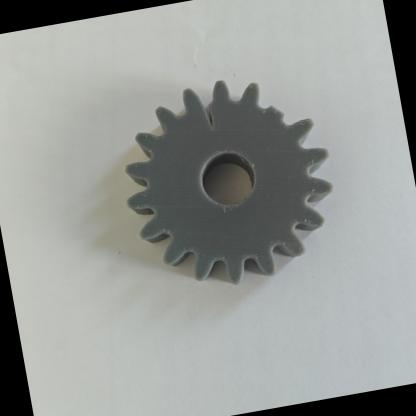defect: (244, 79, 320, 150), (177, 82, 232, 148)
gear: (93, 36, 372, 306)
